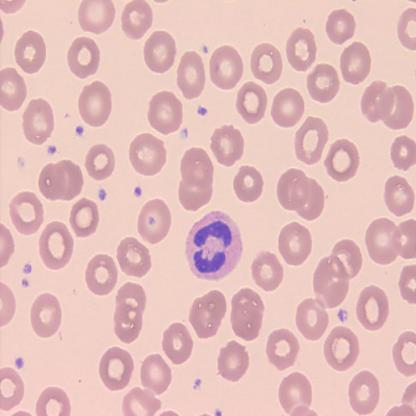Segmented neutrophil: (183, 206, 245, 282)
